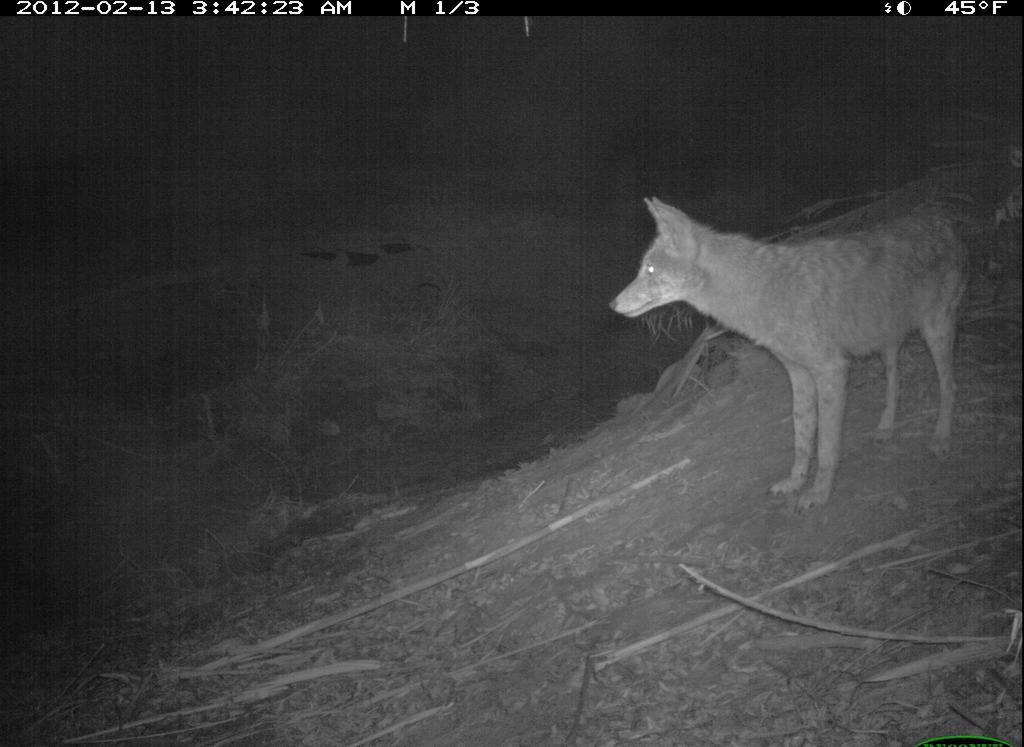coyote: (602, 191, 996, 513)
